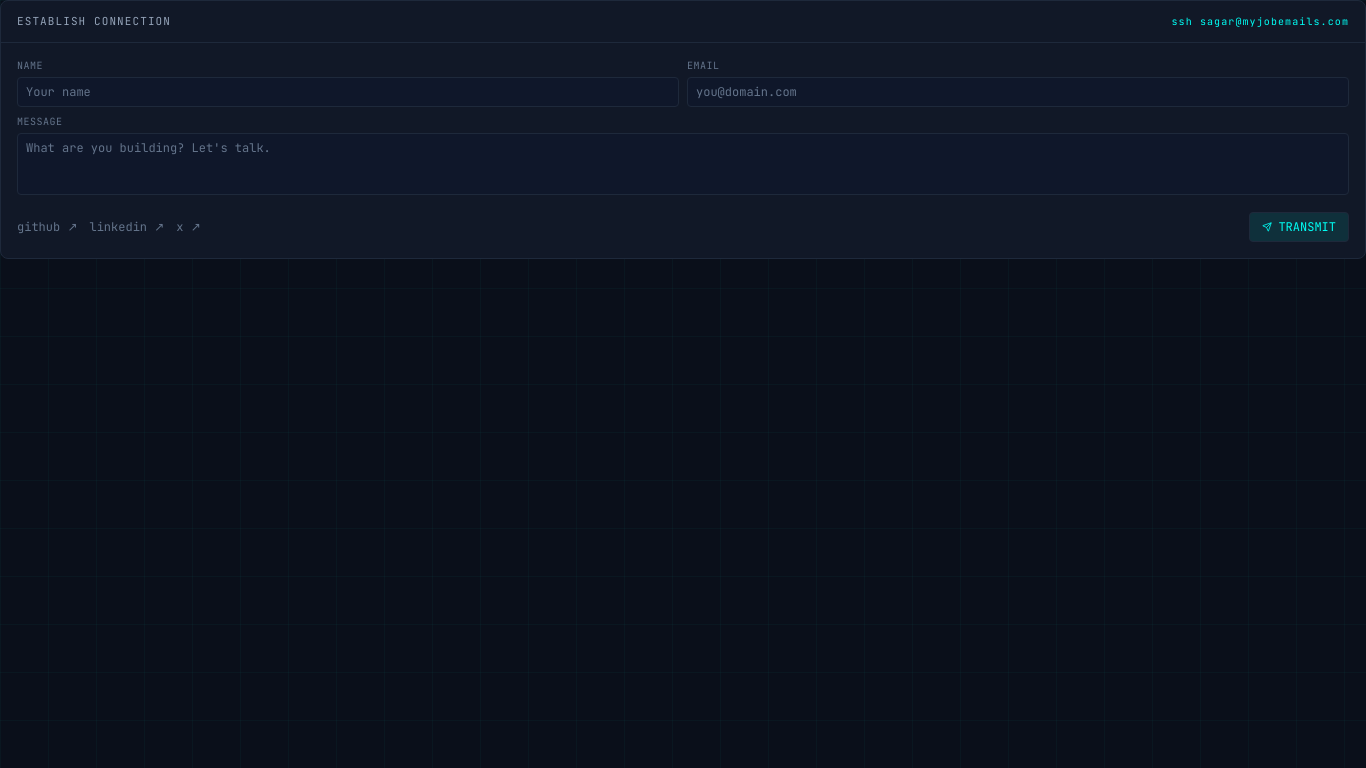
it: ContactCard › shows success after a valid submission
Type "Ada" into the field with placeholder "Your name". click: (348, 92)
box: [17, 77, 679, 107]
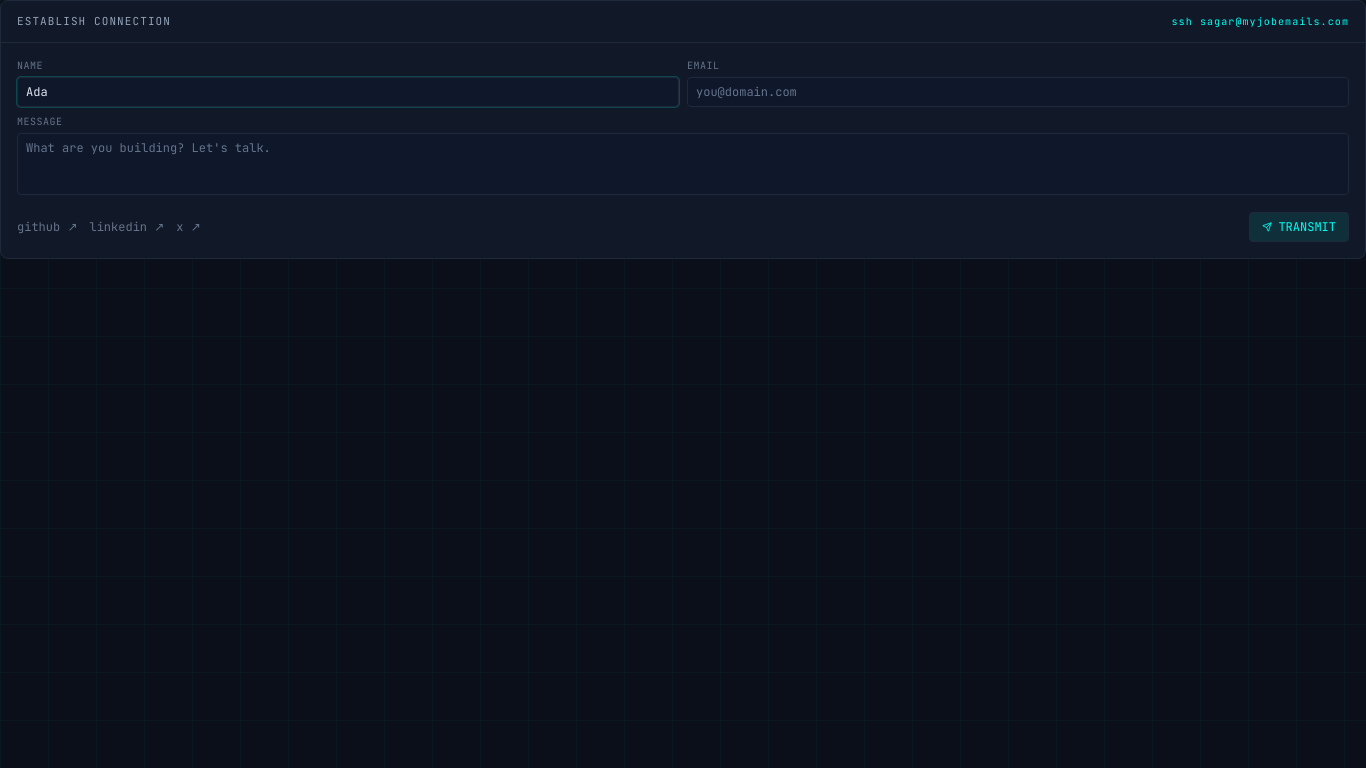
Type "ada@example.com" into the field with placeholder "you@domain.com". click: (1018, 92)
box: [687, 77, 1349, 107]
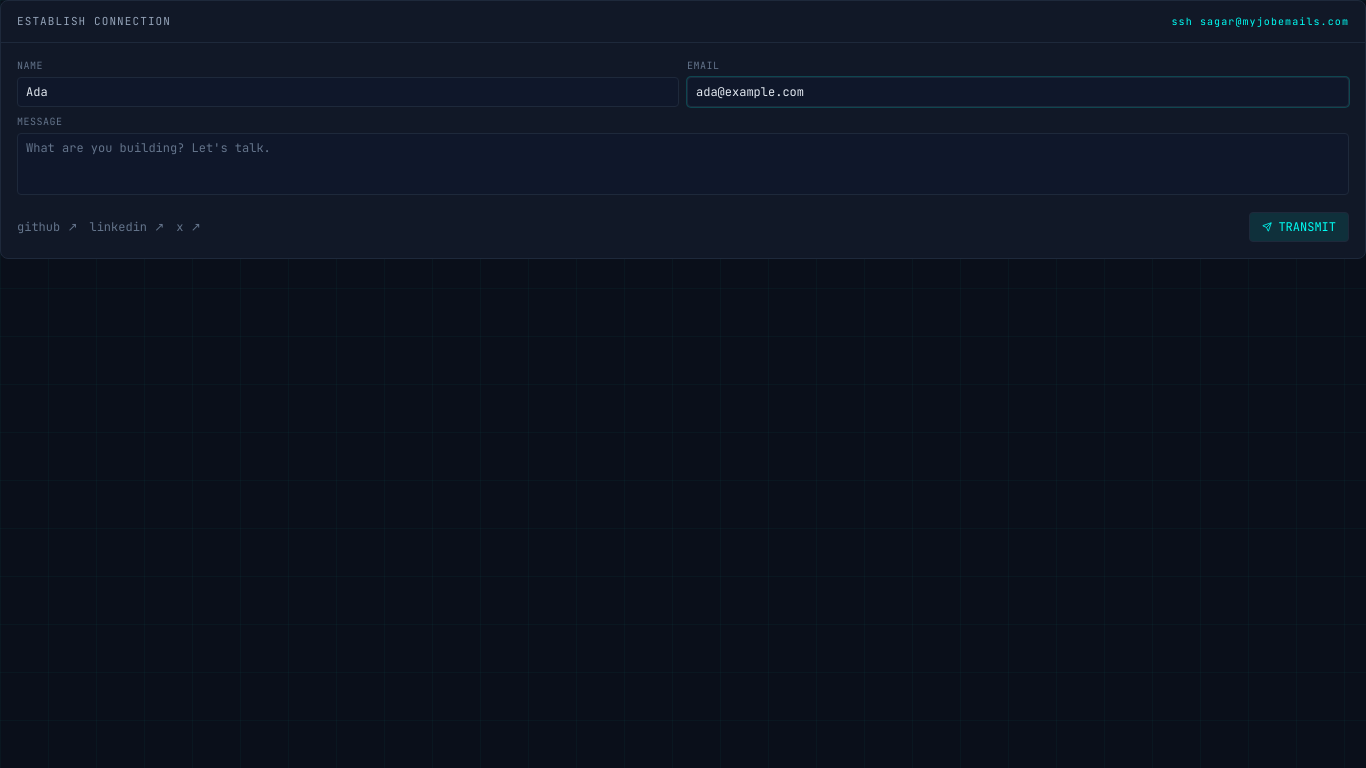
Type "Let's build something" into the text box with placeholder "What are you building? Let's talk.". click: (683, 164)
box: [17, 133, 1349, 195]
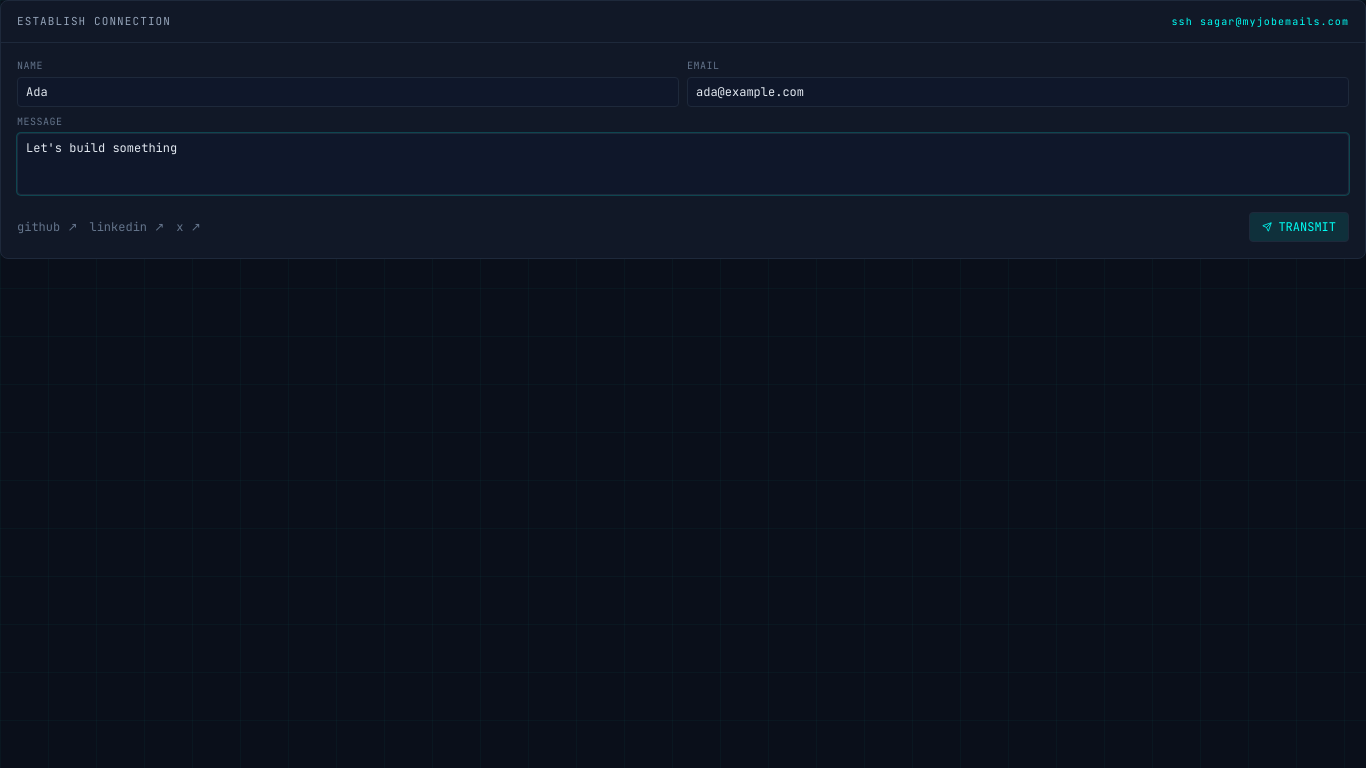
Click the button "TRANSMIT". click: (1299, 227)
box: [1249, 212, 1349, 242]
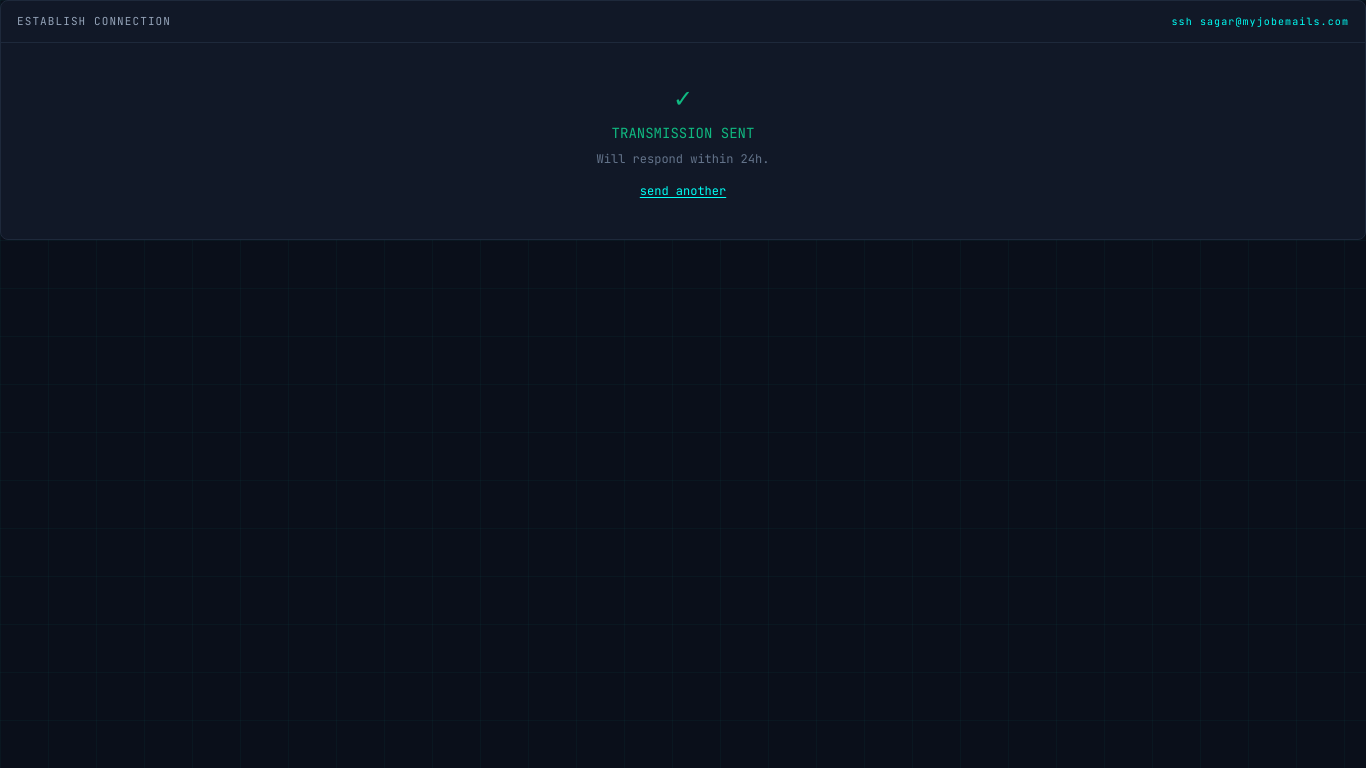
Check: the text "TRANSMISSION SENT" is shown, box [612, 122, 754, 142]
